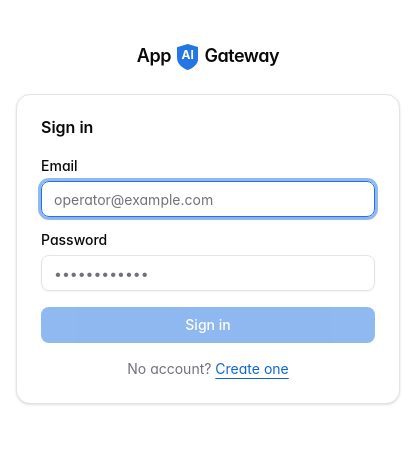
Scenario: LoginPage › shows a readable message when the credentials are wrong
Type "ada@example.test" into the field labelled "Email".
click(208, 199); type("ada@example.test")  # box [41, 181, 375, 217]
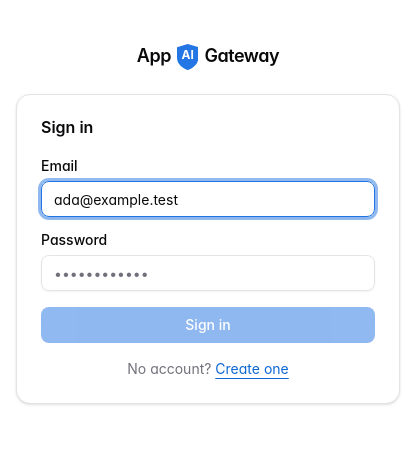
Type "wrong" into the password field labelled "Password".
click(208, 273); type("wrong")  # box [41, 255, 375, 291]
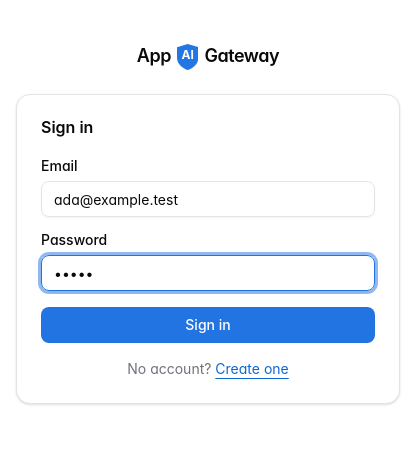
Click the button "Sign in".
click(208, 325)  # box [41, 307, 375, 343]
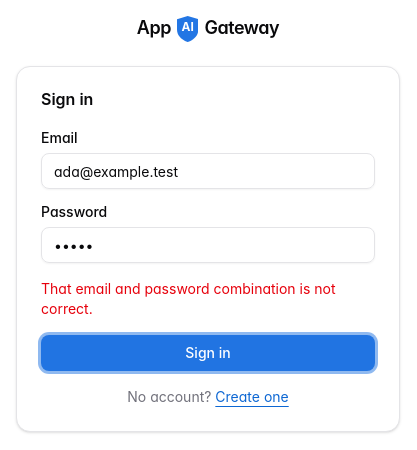
Expected: the message shows "email and password combination is not correct", [41, 280, 336, 317]
